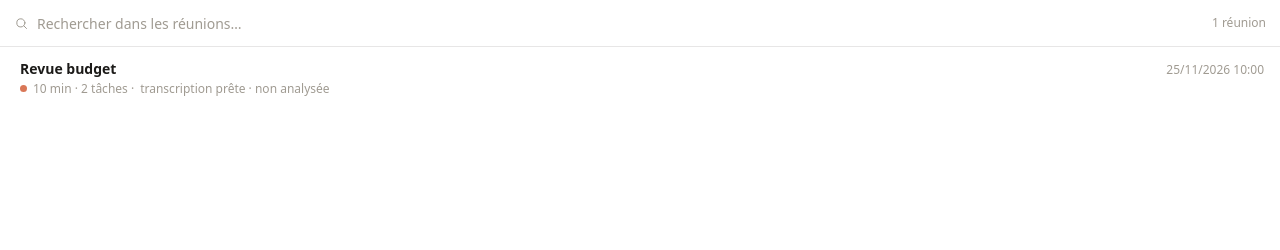
Test: analysis button and state (regression: « no button to analyze ») › never analyzed: the button is there and says Analyser
Later steps or results of the test are not shown.
Click the text "Revue budget" at (68, 68), box [20,59,116,78]
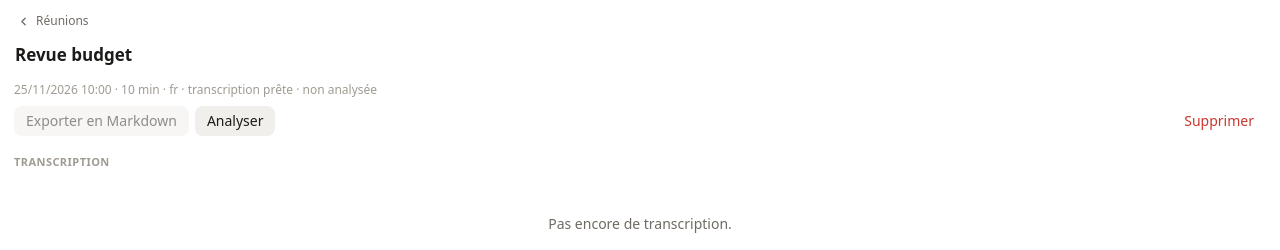
expect the text "non analysée" is shown: met, box [293,81,377,98]
